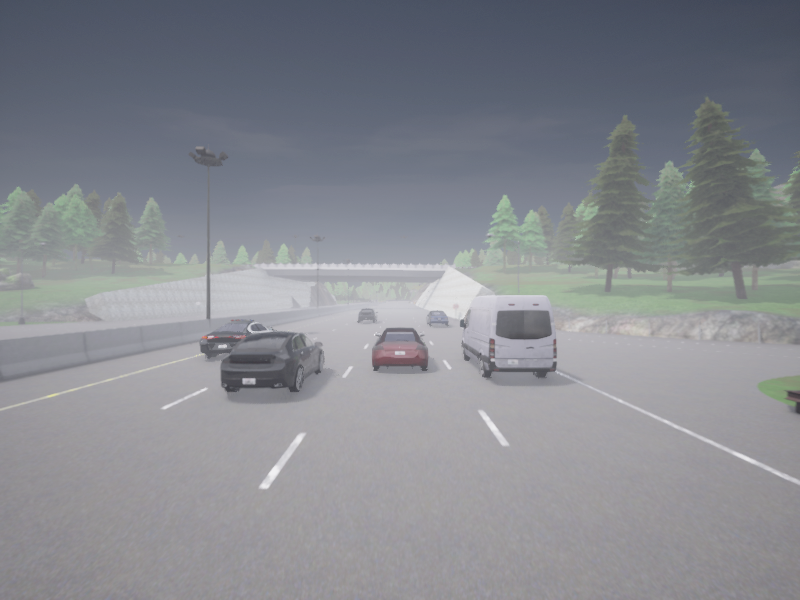vehicle: (460, 295, 556, 377), (220, 331, 323, 392), (199, 319, 275, 357), (372, 327, 427, 369), (425, 311, 448, 325), (358, 308, 377, 322)
